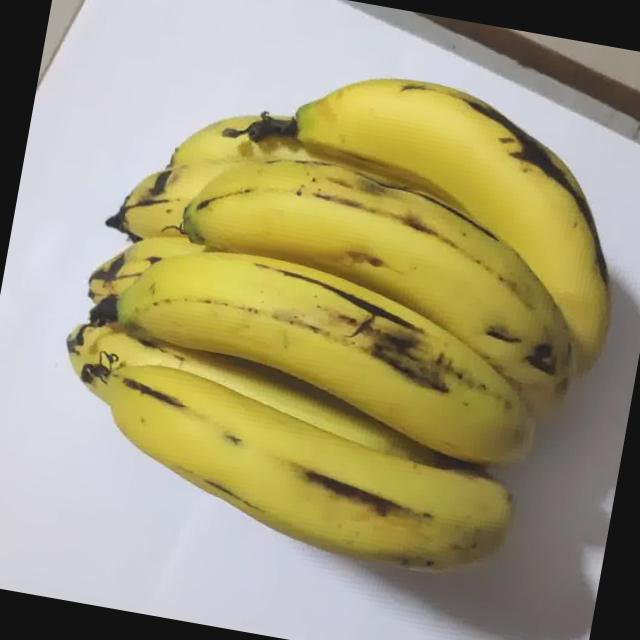banana_pacche: (20, 5, 640, 629)
